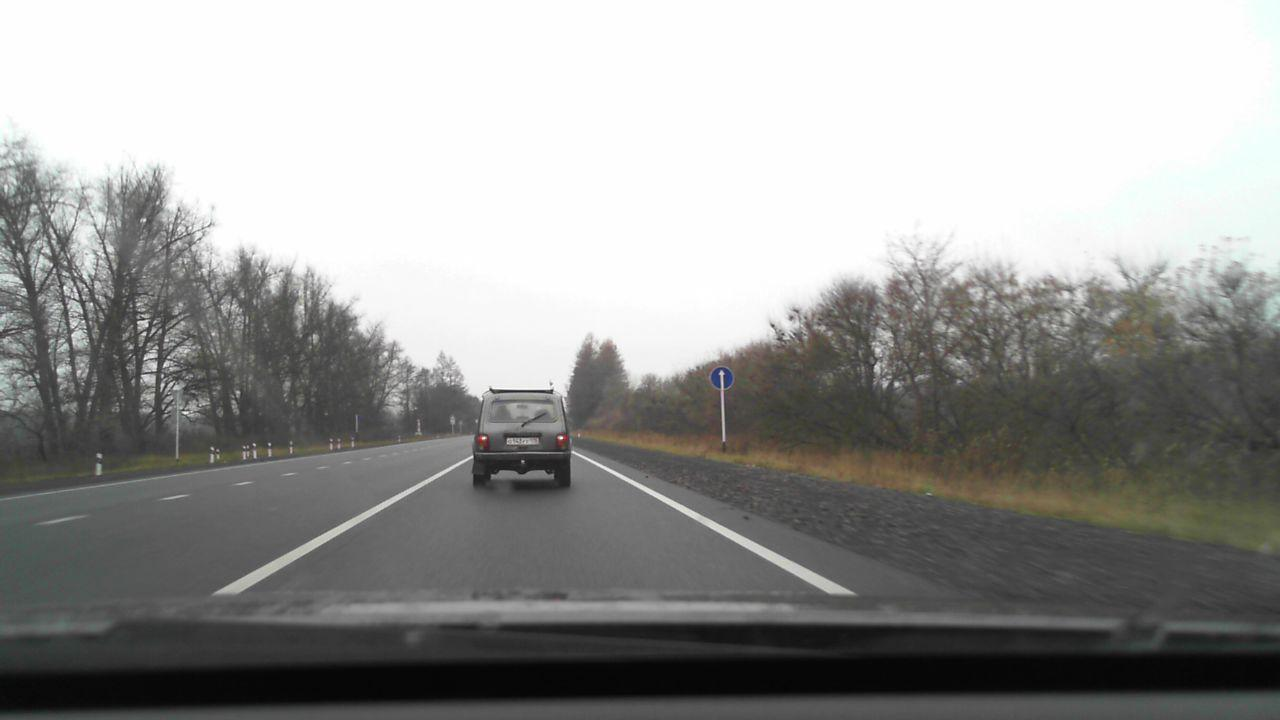4_1_1: (708, 365, 735, 390)
